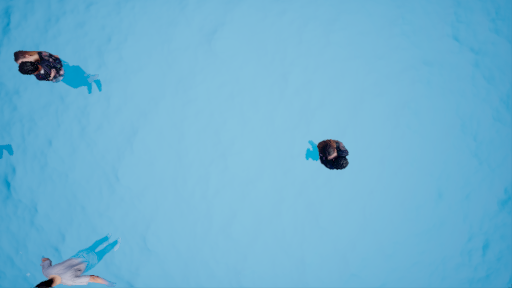person: (24, 234, 145, 286), (14, 47, 100, 99), (300, 136, 355, 176)
